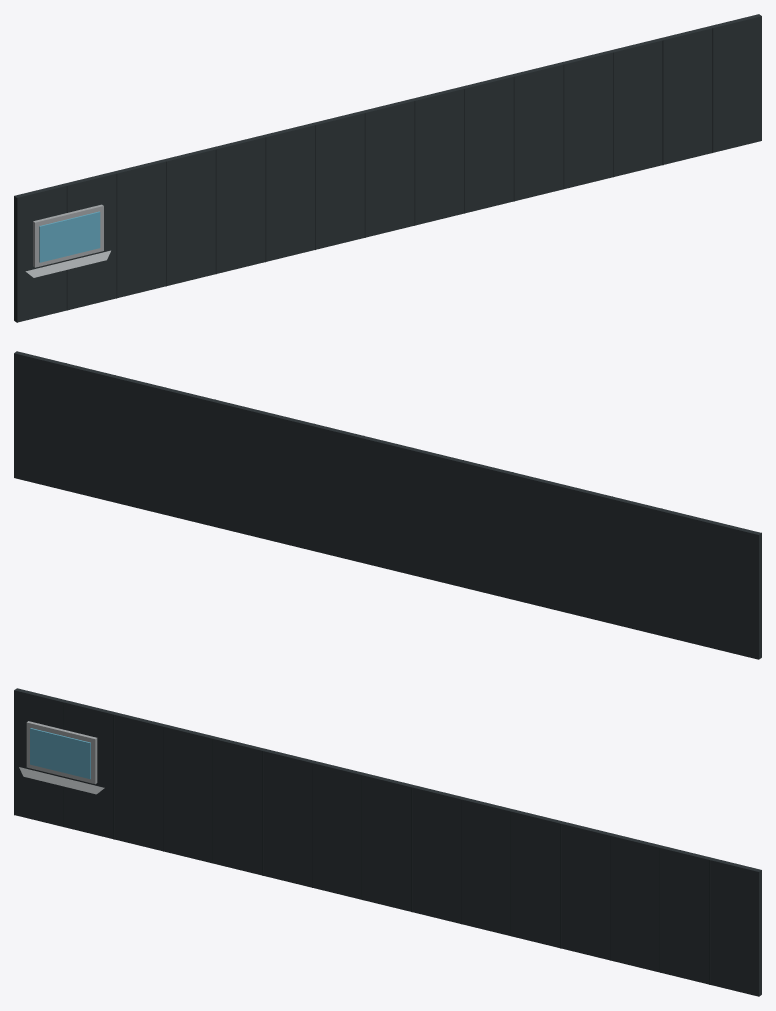
File: bang_sua_may_minh_48.glb
The picture shows the model from 3 angles, top to bottom: view 1: azimuth 30°, elevation 25°; view 2: azimuth 150°, elevation 25°; view 3: azimuth 330°, elevation 25°; orthographic projection.
Visible parts, largest first — view 1: bang_sua_may_minh_48; view 2: bang_sua_may_minh_48; view 3: bang_sua_may_minh_48.
Boxes of the visible parts, x1=… form: bang_sua_may_minh_48: x1=14, y1=14, x2=761, y2=322; bang_sua_may_minh_48: x1=14, y1=351, x2=761, y2=659; bang_sua_may_minh_48: x1=14, y1=688, x2=761, y2=996.
Bounding box in the file's own units: 4.5 × 0.72 × 0.07.
